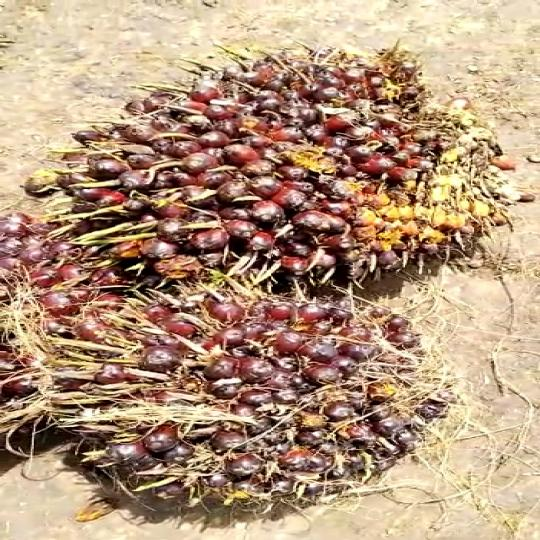kurang masak: (56, 29, 514, 314), (27, 277, 455, 520)
